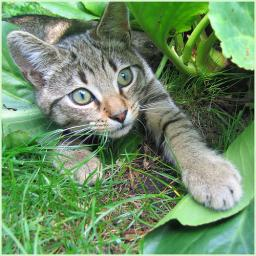catnose: (108, 110, 129, 123)
